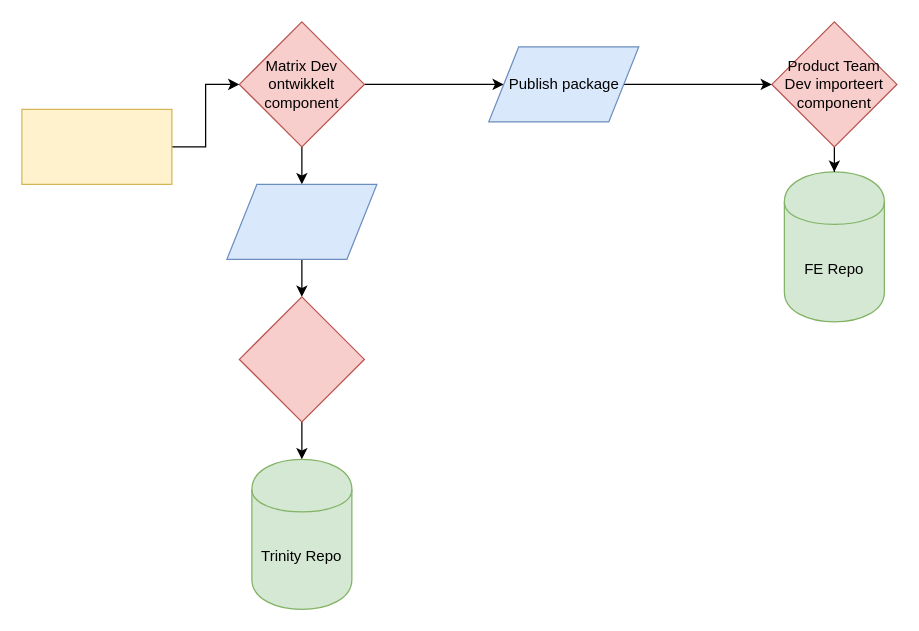
Image size: 919x631. Some labels were removed from this diagram. The shapes that lost their labels are listed below. From the top down, each one's centre as x and y in pixels, then its label:
At point 96,146: "Nieuw component door Matrix?".
At point 301,221: "Create Merge request".
At point 301,359: "Review".
